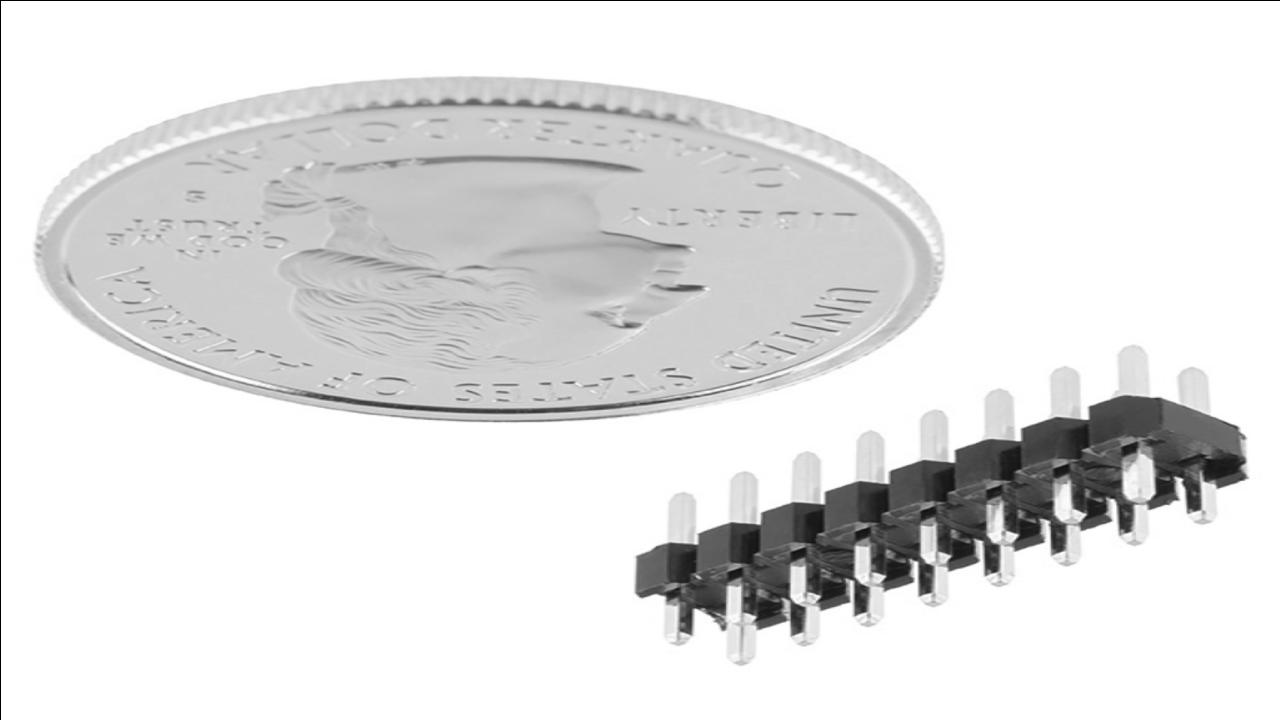coin: (26, 75, 949, 425)
